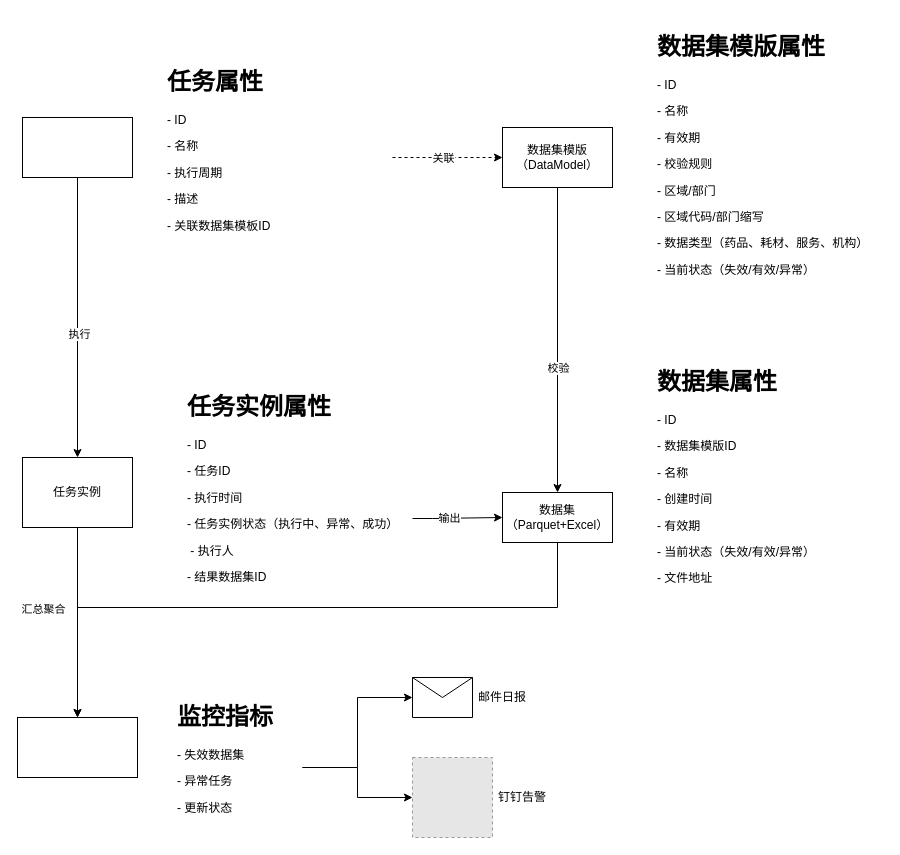
Image size: 900x855. Some labels were removed from this diagram. Grey dashed boxes stand in for pictures. The box of each missing label's shape, as (x1, y1, x2, y2) in pixels:
任务 （Operator）: (22, 116, 132, 178)
数据监控: (16, 716, 138, 778)
